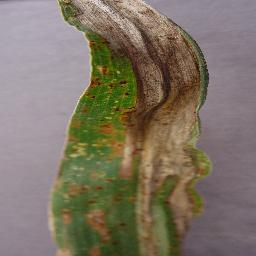Corn_Blight: (48, 0, 216, 254), (130, 247, 133, 256)
